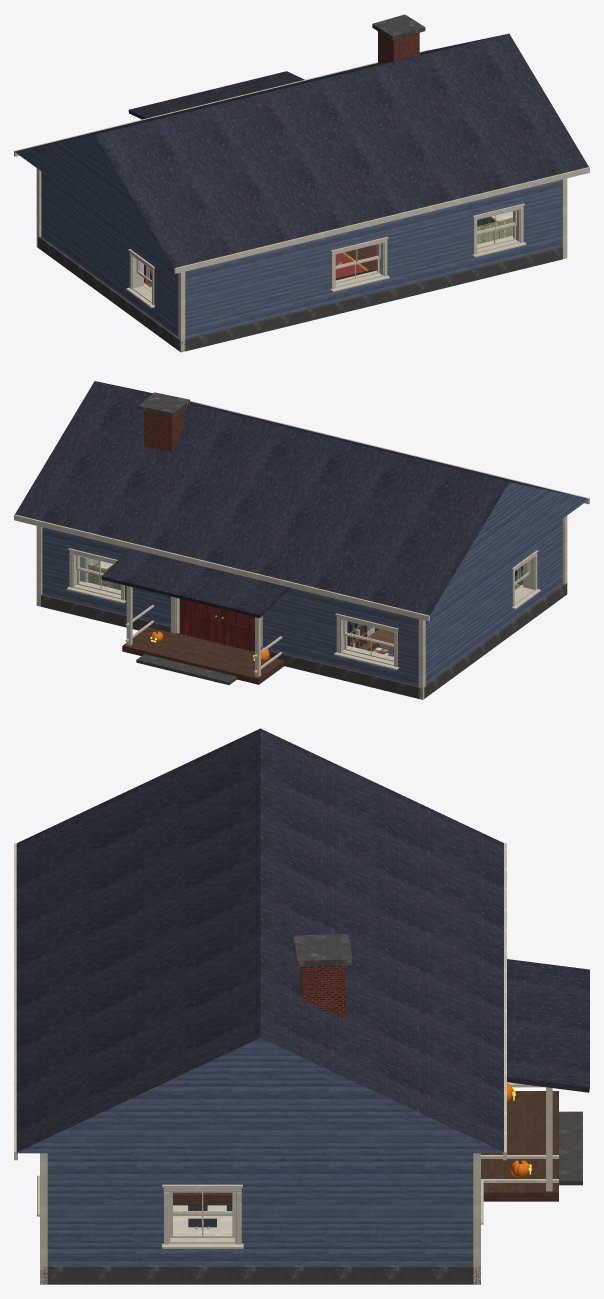
Rendered from home_elena.glb.
3 renders of one model, top to bottom at view 1: azimuth 30°, elevation 25°; view 2: azimuth 150°, elevation 25°; view 3: azimuth 270°, elevation 25°, orthographic. The views are drawn at different scales.
Visible parts, largest first — view 1: geo_home_shell, geo_home_kitchen, geo_home_trim, geo_home_hall; view 2: geo_home_shell, door_home_front, geo_home_kitchen, geo_home_bedroom, geo_home_trim; view 3: geo_home_shell, geo_home_trim, geo_home_kitchen.
Part boxes in pixels (x1=…): geo_home_shell: x1=14, y1=14, x2=589, y2=352; geo_home_kitchen: x1=477, y1=211, x2=512, y2=244; geo_home_trim: x1=144, y1=237, x2=512, y2=284; geo_home_hall: x1=335, y1=244, x2=376, y2=278; geo_home_shell: x1=14, y1=381, x2=589, y2=699; door_home_front: x1=179, y1=599, x2=254, y2=651; geo_home_kitchen: x1=80, y1=556, x2=120, y2=590; geo_home_bedroom: x1=347, y1=566, x2=522, y2=656; geo_home_trim: x1=176, y1=584, x2=520, y2=650; geo_home_shell: x1=14, y1=728, x2=589, y2=1284; geo_home_trim: x1=173, y1=1192, x2=232, y2=1210; geo_home_kitchen: x1=173, y1=1216, x2=232, y2=1232.
Bounding box in the file's own units: 15.2 × 6.54 × 11.97.
Materials: 79 (35 with a texture image).
